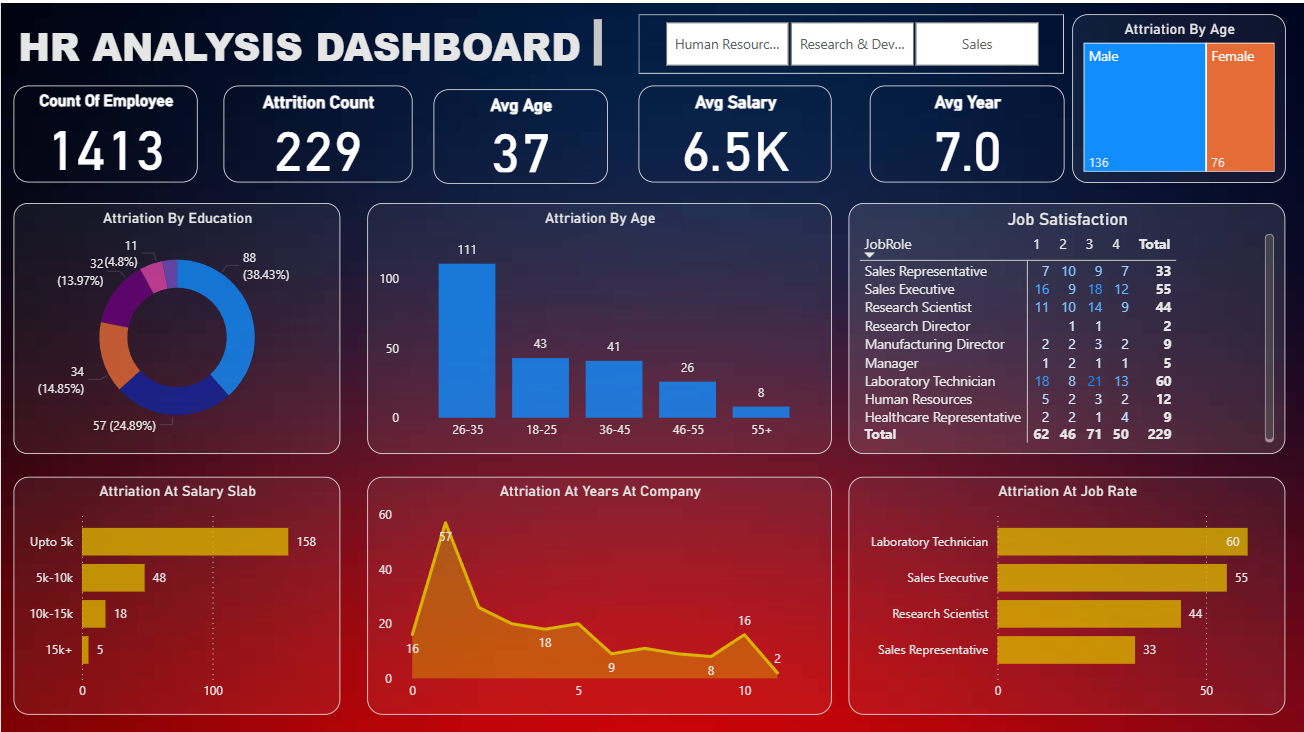

Layout of this report page (visuals, bound fields, positions):
{"tool":"powerbi","page":{"name":"Page 1","canvas":[1280,720],"ordinal":0},"visuals":[{"type":"card","title":"Count Of Employee","fields":{"Values":["CountNonNull(HR_Analytics.EmpID)"]},"box":[12.8,81.2,181,95.5],"z":0},{"type":"card","title":"Attrition Count","fields":{"Values":["CountNonNull(HR_Analytics.Attition_count)"]},"box":[218.1,81.2,185.3,95.5],"z":1000},{"type":"card","title":"Avg Age","fields":{"Values":["Avg(HR_Analytics.Age)"]},"box":[424.8,84.1,171,92.7],"z":2000},{"type":"card","title":"Avg Salary","fields":{"Values":["Avg(HR_Analytics.MonthlyIncome)"]},"box":[625.7,81.2,189.6,95.5],"z":3000},{"type":"card","title":"Avg Year","fields":{"Values":["Avg(HR_Analytics.YearsAtCompany)"]},"box":[852.4,81.2,191,95.5],"z":4000},{"type":"donutChart","title":"Attriation By Education","fields":{"Category":["HR_Analytics.EducationField"],"Y":["CountNonNull(HR_Analytics.Attition_count)"]},"box":[12.8,196.7,320.7,246.6],"z":5000},{"type":"clusteredColumnChart","title":"Attriation By Age","fields":{"Y":["CountNonNull(HR_Analytics.Attition_count)"],"Category":["HR_Analytics.AgeGroup"]},"box":[359.2,196.7,456.1,246.6],"z":6000},{"type":"pivotTable","title":"Job Satisfaction","fields":{"Rows":["HR_Analytics.JobRole"],"Columns":["HR_Analytics.JobSatisfaction"],"Values":["CountNonNull(HR_Analytics.Attition_count)"]},"box":[832.4,196.7,429,246.6],"z":7000},{"type":"clusteredBarChart","title":"Attriation At Salary Slab","fields":{"Category":["HR_Analytics.SalarySlab"],"Y":["CountNonNull(HR_Analytics.Attition_count)"]},"box":[12.8,464.7,320.7,233.8],"z":8000},{"type":"clusteredBarChart","title":"Attriation At Job Rate ","fields":{"Category":["HR_Analytics.JobRole"],"Y":["CountNonNull(HR_Analytics.Attition_count)"]},"box":[832.4,464.7,429,233.8],"z":9000},{"type":"areaChart","title":"Attriation At Years At Company","fields":{"Category":["HR_Analytics.YearsAtCompany"],"Y":["CountNonNull(HR_Analytics.Attition_count)"]},"box":[359.2,464.7,456.1,233.8],"z":10000},{"type":"treemap","title":"Attriation By Age","fields":{"Group":["HR_Analytics.Gender"],"Values":["CountNonNull(HR_Analytics.Attition_count)"]},"box":[1051.9,11.4,209.5,165.3],"z":11000},{"type":"slicer","fields":{"Values":["HR_Analytics.Department"]},"box":[625.7,11.4,417.6,58.4],"z":12000},{"type":"textbox","box":[12.8,11.4,583,58.4],"z":13000}]}

Visuals, with their boxes in screenshot pixels (x1, y1, x2, y2), scaled from the page's 1280x720 canvas onto the 1304x732 screenshot:
"Count Of Employee" card: [left=13, top=83, right=197, bottom=180]
"Attrition Count" card: [left=222, top=83, right=411, bottom=180]
"Avg Age" card: [left=433, top=86, right=607, bottom=180]
"Avg Salary" card: [left=637, top=83, right=831, bottom=180]
"Avg Year" card: [left=868, top=83, right=1063, bottom=180]
"Attriation By Education" donutChart: [left=13, top=200, right=340, bottom=451]
"Attriation By Age" clusteredColumnChart: [left=366, top=200, right=831, bottom=451]
"Job Satisfaction" pivotTable: [left=848, top=200, right=1285, bottom=451]
"Attriation At Salary Slab" clusteredBarChart: [left=13, top=472, right=340, bottom=710]
"Attriation At Job Rate " clusteredBarChart: [left=848, top=472, right=1285, bottom=710]
"Attriation At Years At Company" areaChart: [left=366, top=472, right=831, bottom=710]
"Attriation By Age" treemap: [left=1072, top=12, right=1285, bottom=180]
slicer - HR_Analytics.Department: [left=637, top=12, right=1063, bottom=71]
textbox: [left=13, top=12, right=607, bottom=71]
